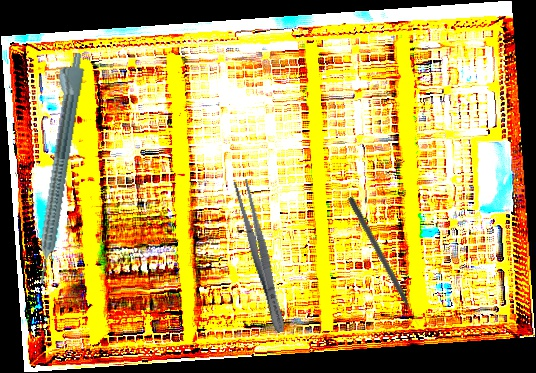Dressing Forceps: (231, 178, 290, 335)
Handpiece: (23, 50, 88, 285)
Pusher: (345, 196, 422, 328)
